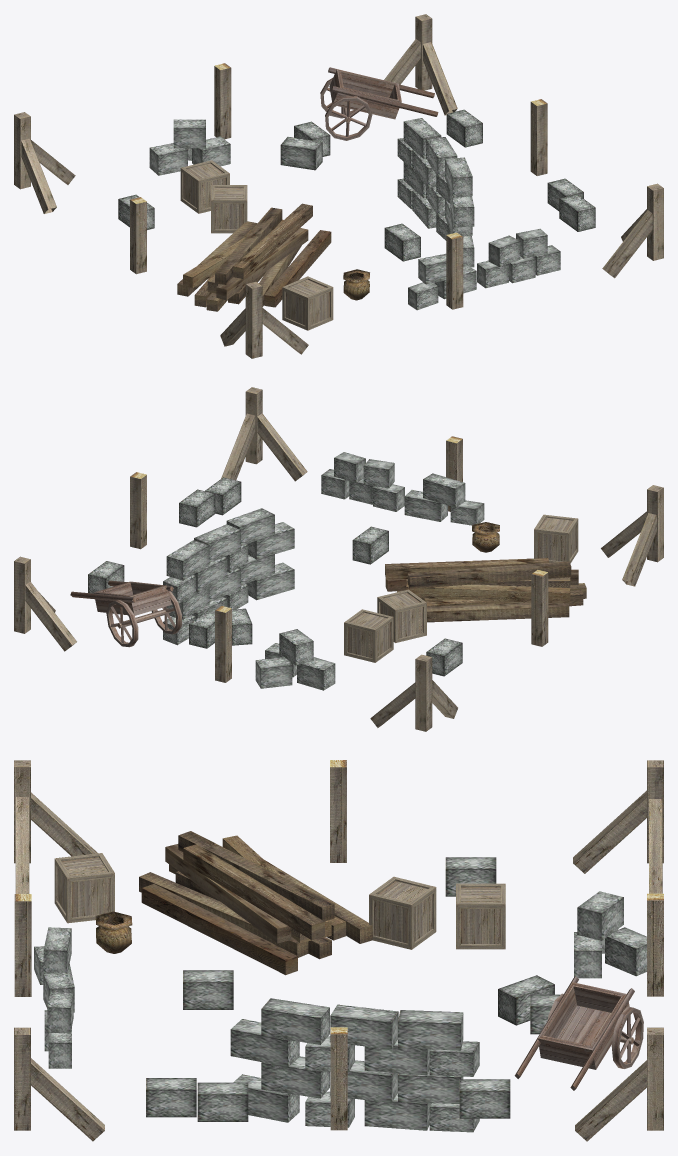
Rendered from fndn_4x4.glb.
3 views of the same model, one above another, from view 1: azimuth 30°, elevation 25°; view 2: azimuth 150°, elevation 25°; view 3: azimuth 270°, elevation 25° (orthographic). The views are drawn at different scales.
Parts seen in each view (by area): view 1: fndn_4x4_part11, fndn_4x4_part24, fndn_4x4_part19, fndn_4x4_part12, fndn_4x4_part10, fndn_4x4_part2, fndn_4x4_part3, fndn_4x4_part4, fndn_4x4_part1, fndn_4x4_part21, fndn_4x4_part22, fndn_4x4_part20 (+12 smaller); view 2: fndn_4x4_part24, fndn_4x4_part11, fndn_4x4_part19, fndn_4x4_part12, fndn_4x4_part10, fndn_4x4_part1, fndn_4x4_part4, fndn_4x4_part3, fndn_4x4_part2, fndn_4x4_part22, fndn_4x4_part21, fndn_4x4_part20 (+12 smaller); view 3: fndn_4x4_part24, fndn_4x4_part11, fndn_4x4_part12, fndn_4x4_part10, fndn_4x4_part19, fndn_4x4_part3, fndn_4x4_part20, fndn_4x4_part4, fndn_4x4_part1, fndn_4x4_part21, fndn_4x4_part2, fndn_4x4_part22 (+12 smaller).
Boxes of the visible parts, x1,y1,x2,y2 form: fndn_4x4_part11: (177,203,331,311); fndn_4x4_part24: (397,118,474,267); fndn_4x4_part19: (408,228,560,310); fndn_4x4_part12: (320,67,438,140); fndn_4x4_part10: (149,119,230,175); fndn_4x4_part2: (384,14,457,115); fndn_4x4_part3: (14,112,75,213); fndn_4x4_part4: (220,281,308,358); fndn_4x4_part1: (602,183,663,278); fndn_4x4_part21: (282,276,333,330); fndn_4x4_part22: (180,160,229,213); fndn_4x4_part20: (211,185,247,233); fndn_4x4_part24: (163,508,294,645); fndn_4x4_part11: (385,558,586,622); fndn_4x4_part19: (321,452,484,525); fndn_4x4_part12: (70,580,181,647); fndn_4x4_part10: (255,629,335,690); fndn_4x4_part1: (221,387,307,481); fndn_4x4_part4: (601,485,663,586); fndn_4x4_part3: (370,654,457,731); fndn_4x4_part2: (14,556,76,651); fndn_4x4_part22: (344,609,393,662); fndn_4x4_part21: (534,514,578,563); fndn_4x4_part20: (377,589,426,642); fndn_4x4_part24: (230,998,479,1132); fndn_4x4_part11: (139,831,372,975); fndn_4x4_part12: (514,976,643,1090); fndn_4x4_part10: (574,891,646,978); fndn_4x4_part19: (34,927,74,1068); fndn_4x4_part3: (573,760,663,893); fndn_4x4_part20: (369,876,436,949); fndn_4x4_part4: (14,760,97,893); fndn_4x4_part1: (14,1027,104,1141); fndn_4x4_part21: (54,853,114,923); fndn_4x4_part2: (575,1027,663,1141); fndn_4x4_part22: (456,883,505,949).
Size of the model in its own units: 3.45 by 0.971 by 3.45.
4 materials, 4 textured.
